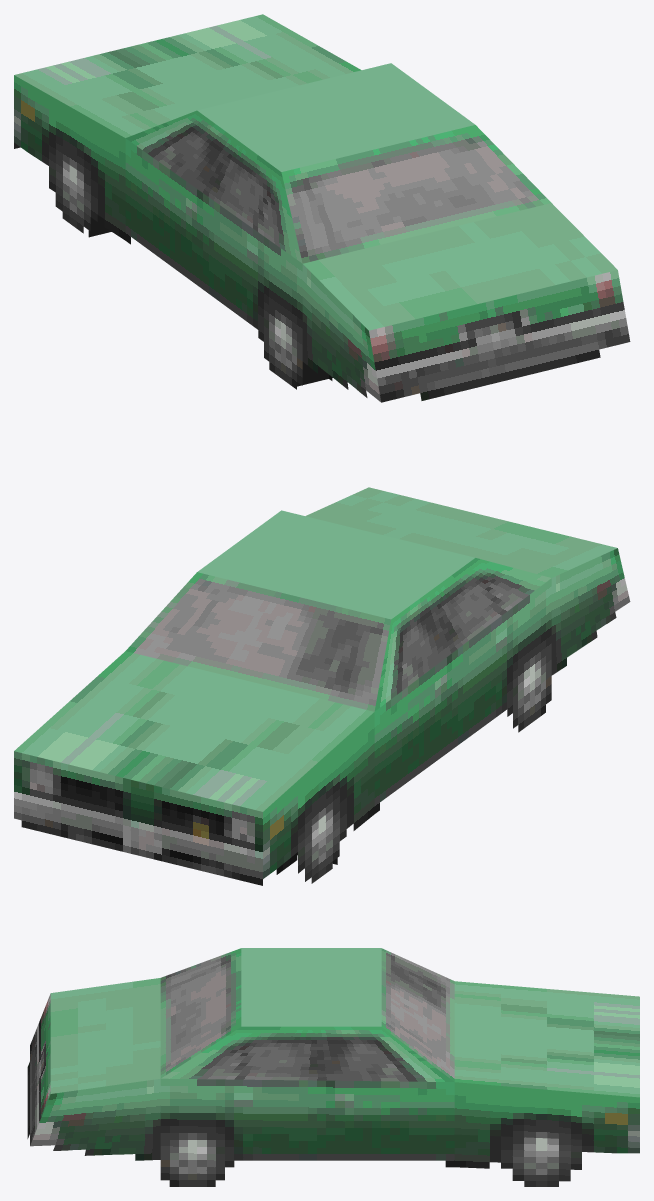
Rendered from car-lemans.glb.
The picture shows the model from 3 angles, top to bottom: view 1: azimuth 30°, elevation 25°; view 2: azimuth 150°, elevation 25°; view 3: azimuth 270°, elevation 25°; orthographic projection. The views are drawn at different scales.
Visible parts, largest first — view 1: plt0; view 2: plt0; view 3: plt0.
Part boxes in pixels (<box>): plt0: <box>14,14,630,402</box>; plt0: <box>14,487,630,885</box>; plt0: <box>27,948,639,1186</box>.
Size of the model in its own units: 1.98 by 1.37 by 5.2.
16 materials, 16 textured.
